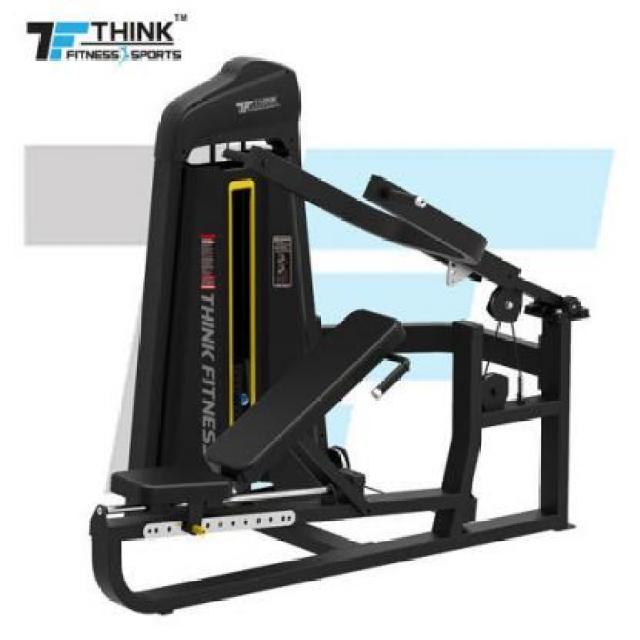shoulder press machine: (86, 57, 589, 618)
